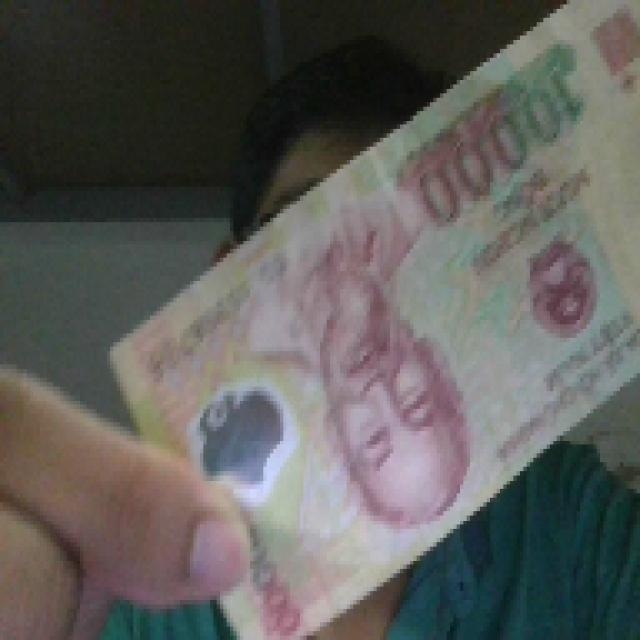10 000 VND: (103, 0, 637, 636)
